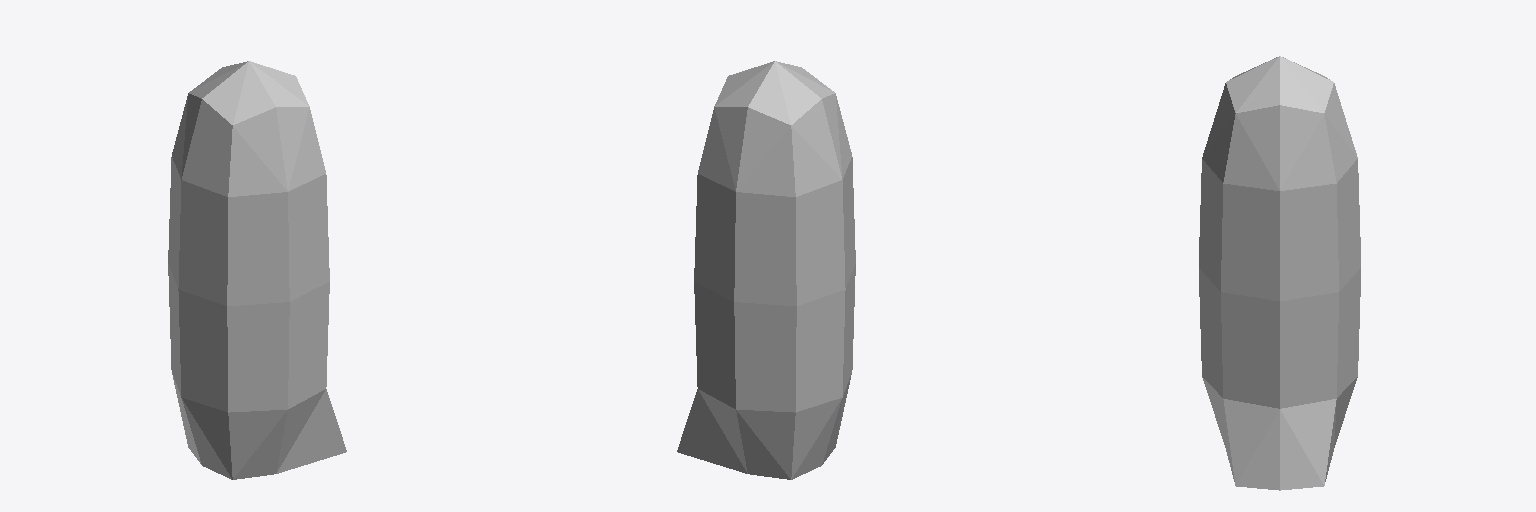
Rendered from owl_right_leg.obj.
3 renders of one model, left to right at view 1: azimuth 30°, elevation 25°; view 2: azimuth 150°, elevation 25°; view 3: azimuth 270°, elevation 25°, orthographic.
Parts seen in each view (by area): view 1: owl_right_leg; view 2: owl_right_leg; view 3: owl_right_leg.
Boxes of the visible parts, x1,y1,x2,y2 form: owl_right_leg: [168, 61, 346, 479]; owl_right_leg: [677, 61, 855, 479]; owl_right_leg: [1199, 56, 1360, 490].
Size of the model in its own units: 0.1063 by 0.2576 by 0.0967.